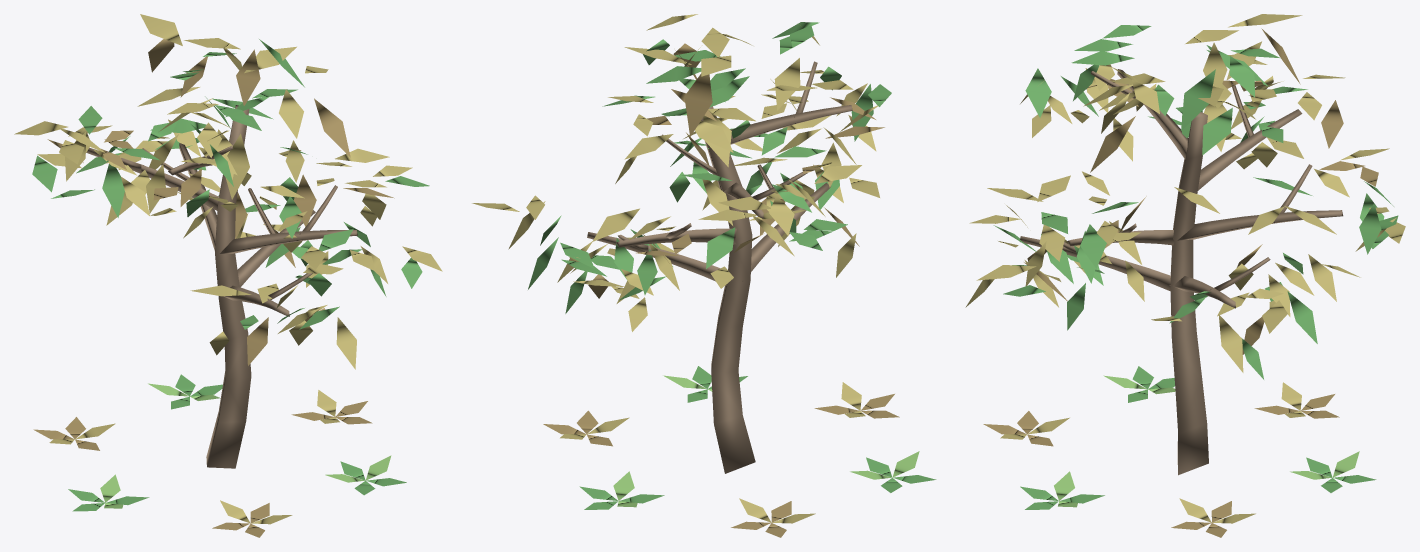
Rendered from SM_PlantTreeWiltedLod2.fbx.
3 renders of one model, left to right at view 1: azimuth 30°, elevation 25°; view 2: azimuth 150°, elevation 25°; view 3: azimuth 270°, elevation 25°, orthographic. The views are drawn at different scales.
Visible parts, largest first — view 1: PlantTreeWiltedLod2; view 2: PlantTreeWiltedLod2; view 3: PlantTreeWiltedLod2.
Boxes of the visible parts, x1=… form: PlantTreeWiltedLod2: x1=14, y1=14, x2=442, y2=537; PlantTreeWiltedLod2: x1=472, y1=14, x2=936, y2=537; PlantTreeWiltedLod2: x1=965, y1=14, x2=1405, y2=537.
Bounding box in the file's own units: 1.66 × 1.75 × 1.59.
